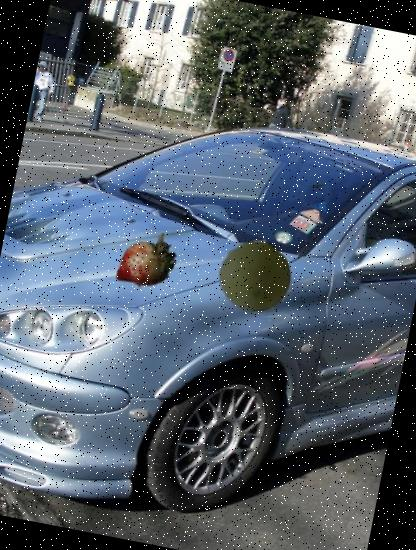Grape: (212, 233, 298, 319)
Strawberry: (111, 226, 183, 298)
